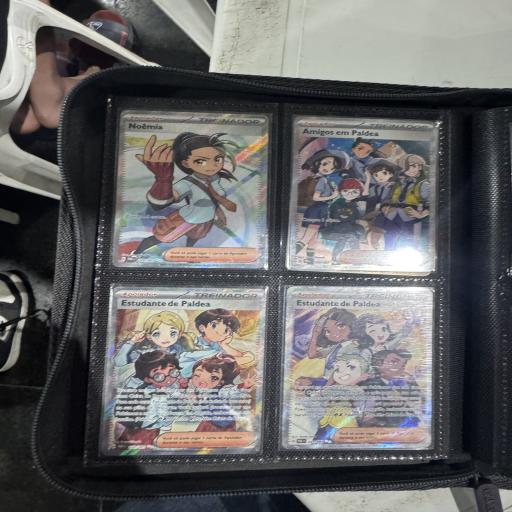card: (101, 285, 266, 458), (112, 110, 270, 269), (281, 286, 433, 450), (288, 116, 442, 276)
